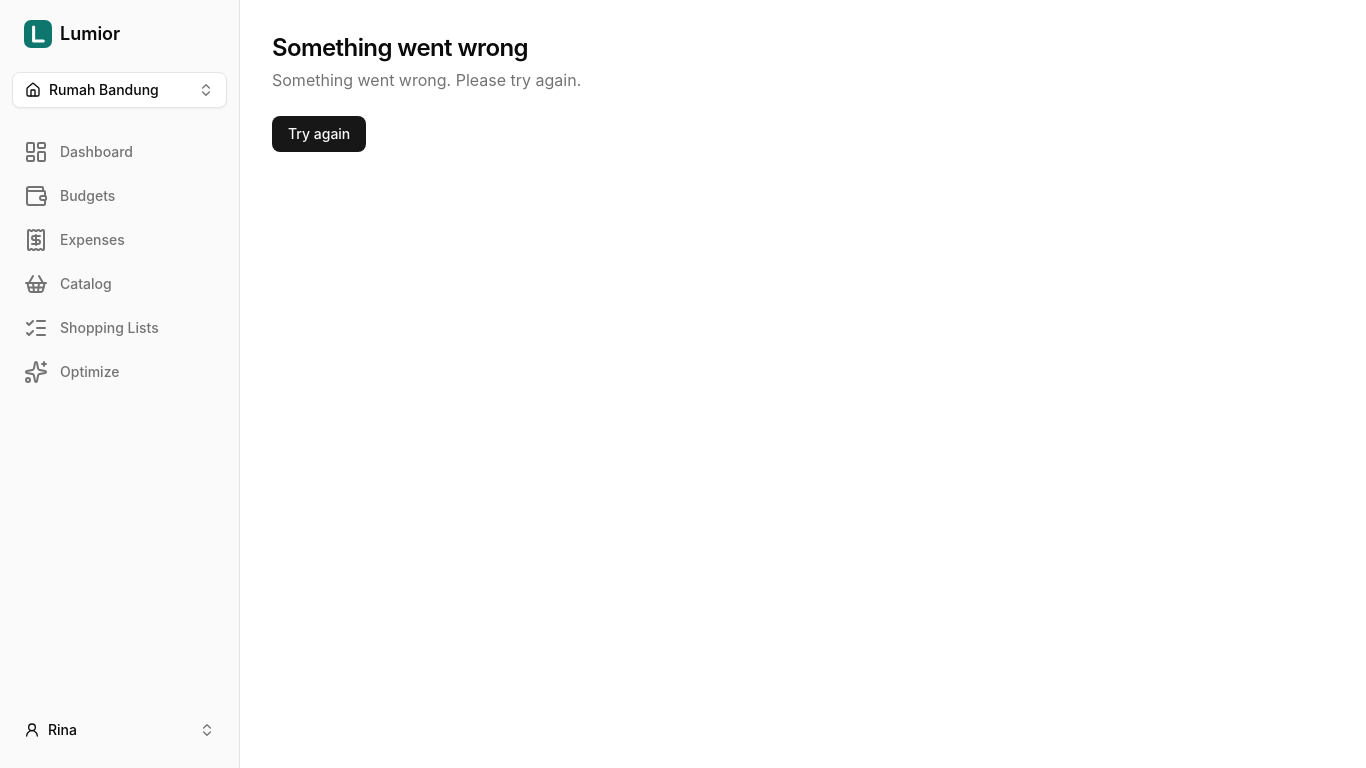
Test case: error boundary › a page that throws shows the error page while the sidebar keeps working
The image size is (1366, 768).
Expected: the heading "Something went wrong" is shown, [272,33,528,62]
Expected: the button "Try again" is shown, [272,116,366,152]
Click the link "Dashboard": [78, 152] box [24,140,133,164]
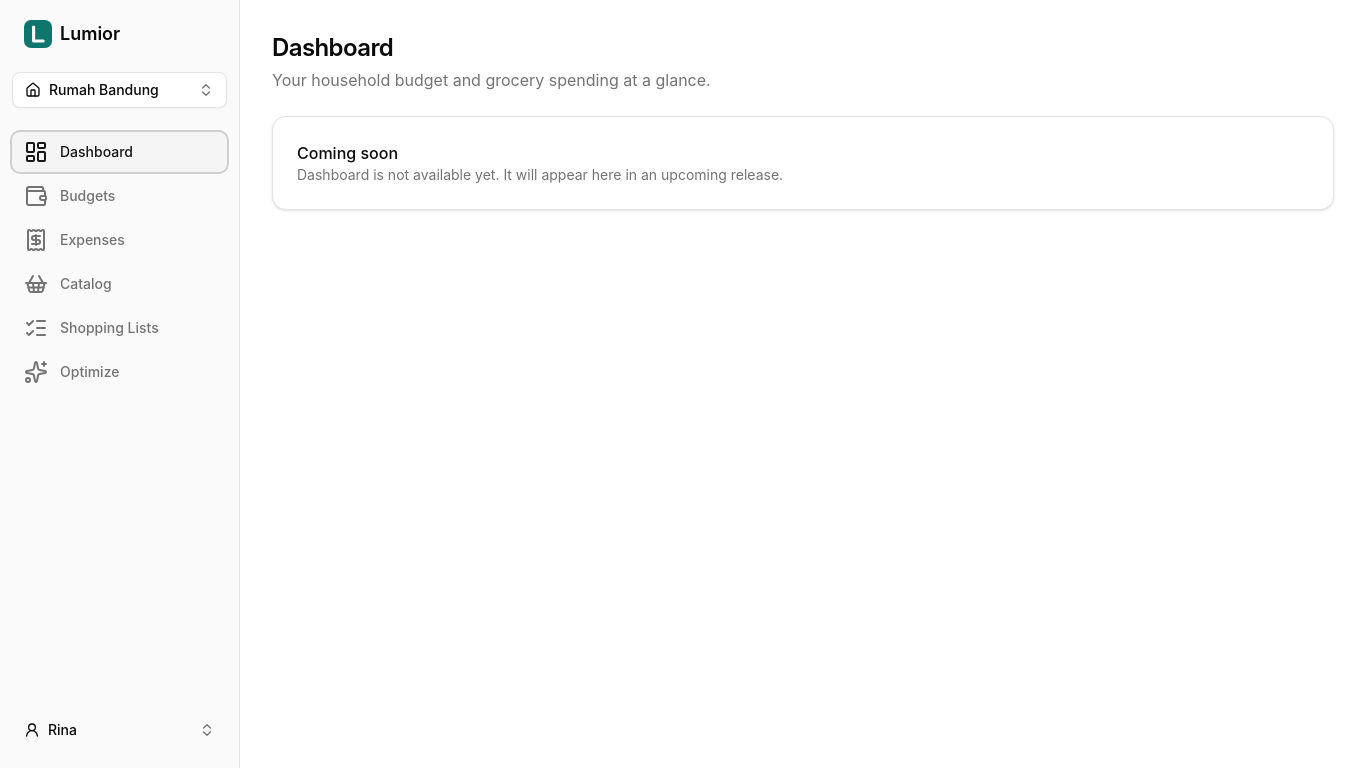
Expected: the heading "Dashboard" is shown, [272,33,393,62]
